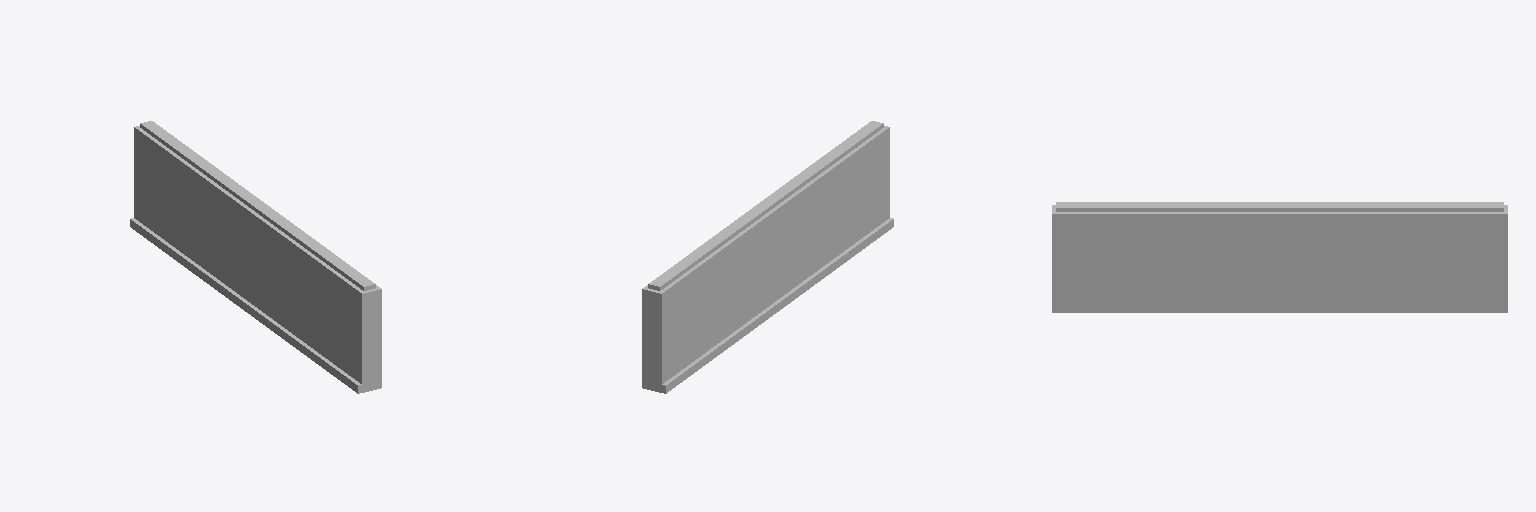
The model's file is HallEnd_1.obj.
3 renders of one model, left to right at view 1: azimuth 30°, elevation 25°; view 2: azimuth 150°, elevation 25°; view 3: azimuth 270°, elevation 25°, orthographic.
Bounding box in the file's own units: 6 × 25 × 100.